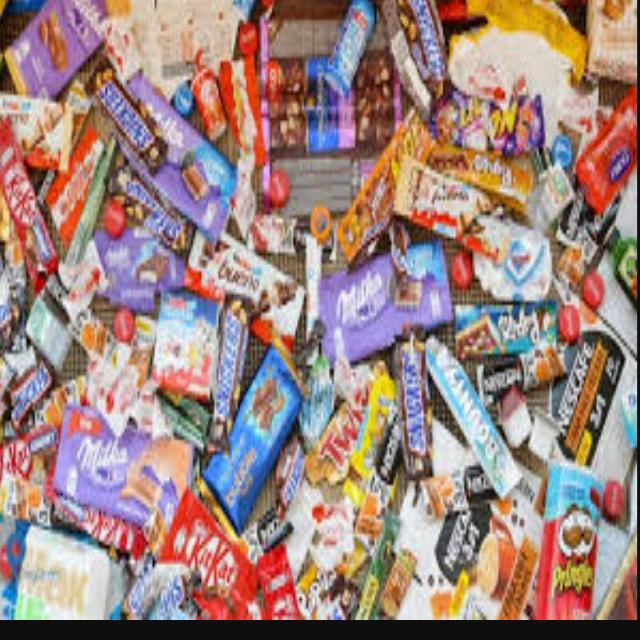KemasanPlastik: (2, 2, 234, 276), (450, 297, 633, 618), (5, 358, 195, 614), (296, 360, 452, 604), (197, 333, 306, 540), (312, 240, 455, 364), (327, 3, 378, 93), (234, 252, 236, 276)
